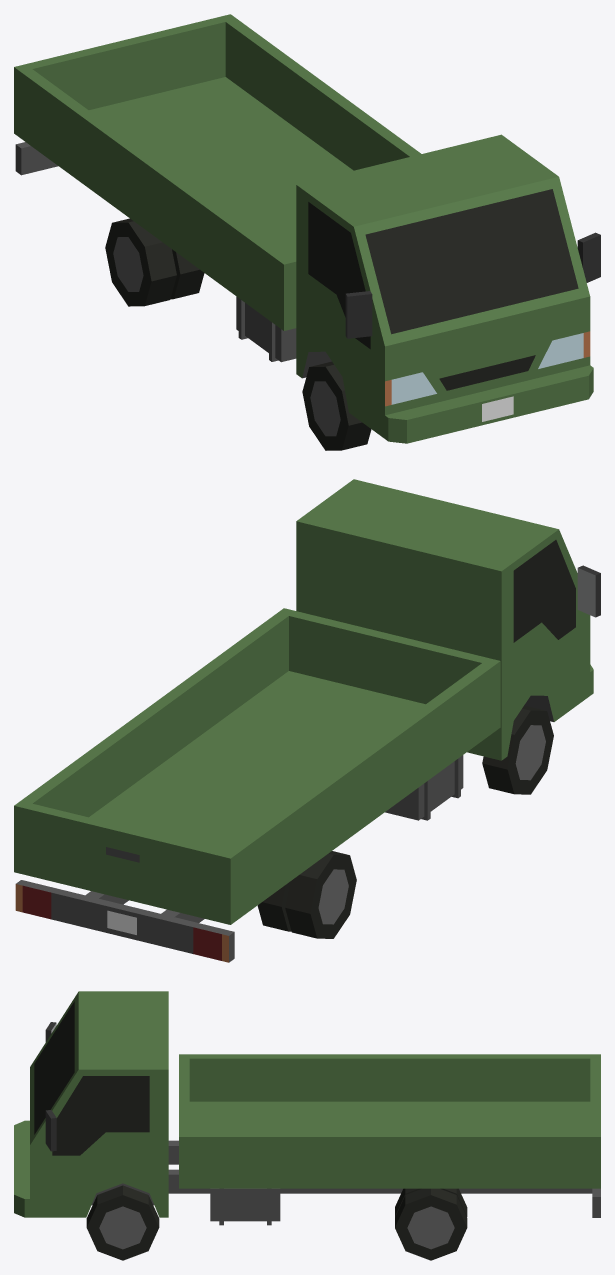
Rendered from Veh_Truck_02_Flat_Green.glb.
3 views of the same model, one above another, from view 1: azimuth 30°, elevation 25°; view 2: azimuth 150°, elevation 25°; view 3: azimuth 270°, elevation 25° (orthographic). The views are drawn at different scales.
Parts seen in each view (by area): view 1: Truck_02_Flat_Green, Wheel_RR, Wheel_FR; view 2: Truck_02_Flat_Green, Wheel_RR, Wheel_FR; view 3: Truck_02_Flat_Green, Wheel_RL, Wheel_FL.
Part boxes in pixels (left/top/right/bottom): Truck_02_Flat_Green: left=14, top=14, right=600, bottom=443; Wheel_RR: left=105, top=218, right=204, bottom=306; Wheel_FR: left=302, top=361, right=371, bottom=450; Truck_02_Flat_Green: left=14, top=479, right=600, bottom=962; Wheel_RR: left=257, top=851, right=356, bottom=938; Wheel_FR: left=482, top=705, right=553, bottom=794; Truck_02_Flat_Green: left=14, top=991, right=600, bottom=1225; Wheel_RL: left=395, top=1188, right=467, bottom=1260; Wheel_FL: left=86, top=1185, right=159, bottom=1260.
Size of the model in its own units: 1.27 by 1.17 by 3.26.
Materials: 1 (1 with a texture image).
